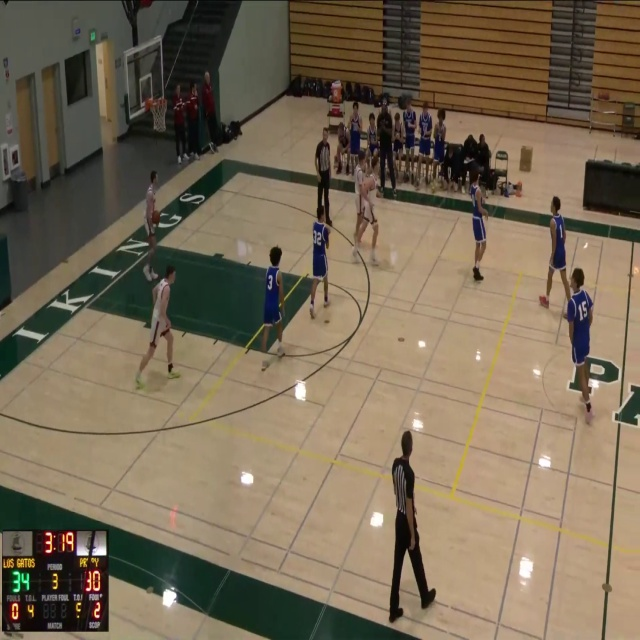Basketball: (151, 210, 161, 225)
